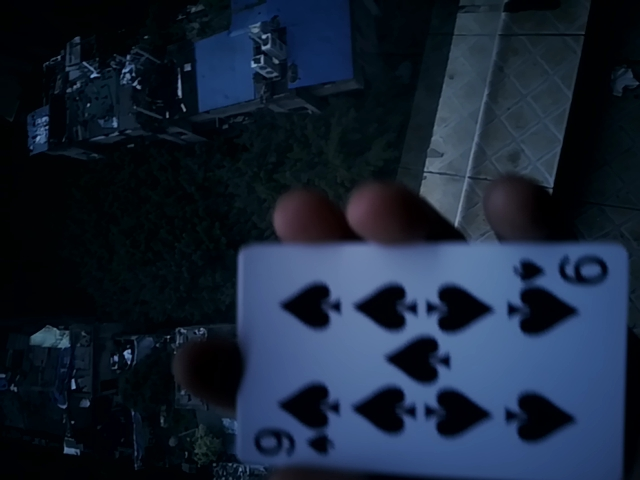ht 9: (227, 235, 633, 480)
